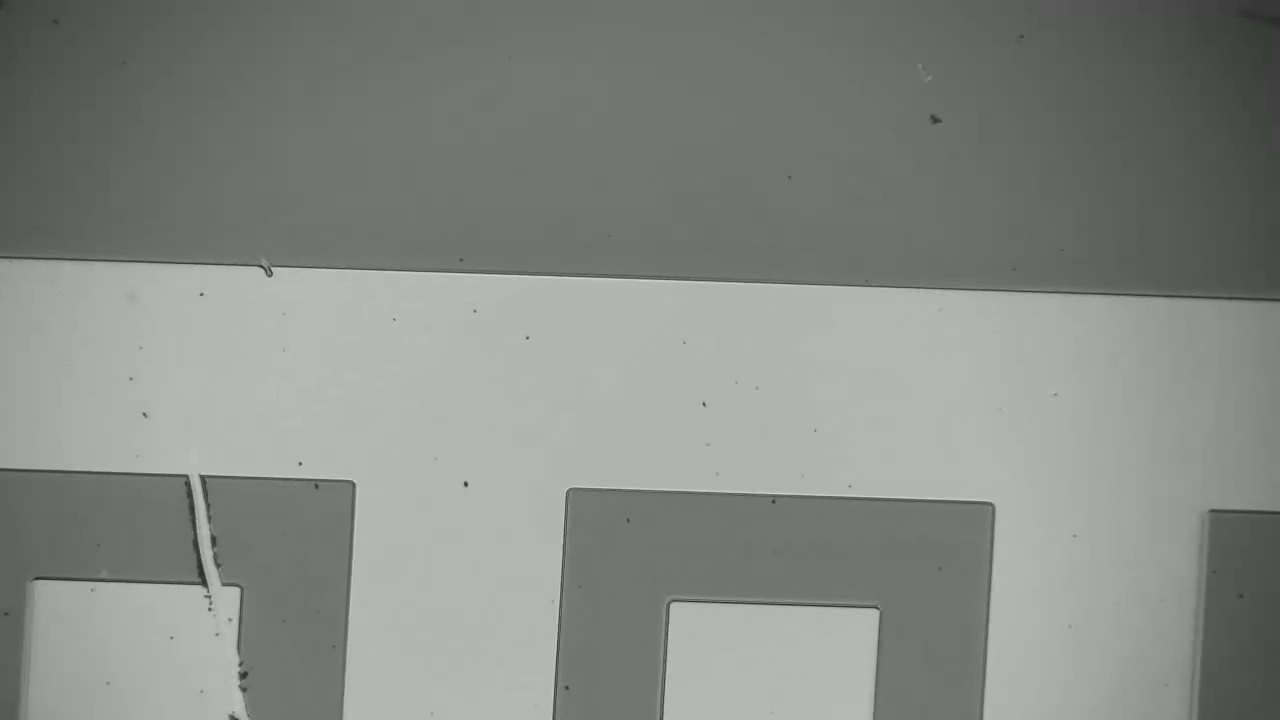Short_circuit: (163, 453, 237, 600)
